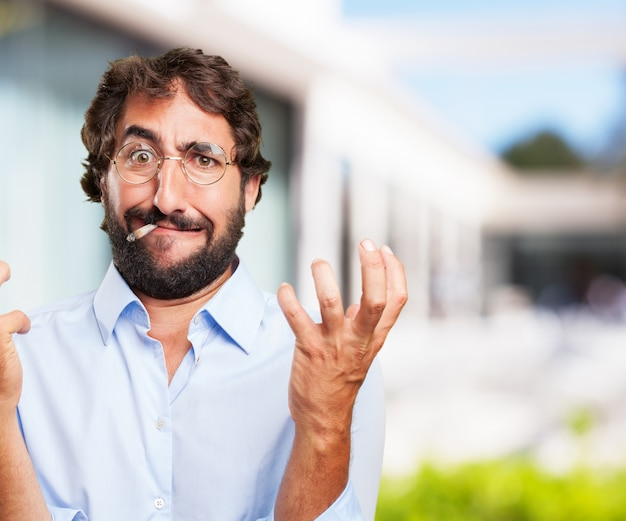cigarette: (126, 222, 158, 242)
